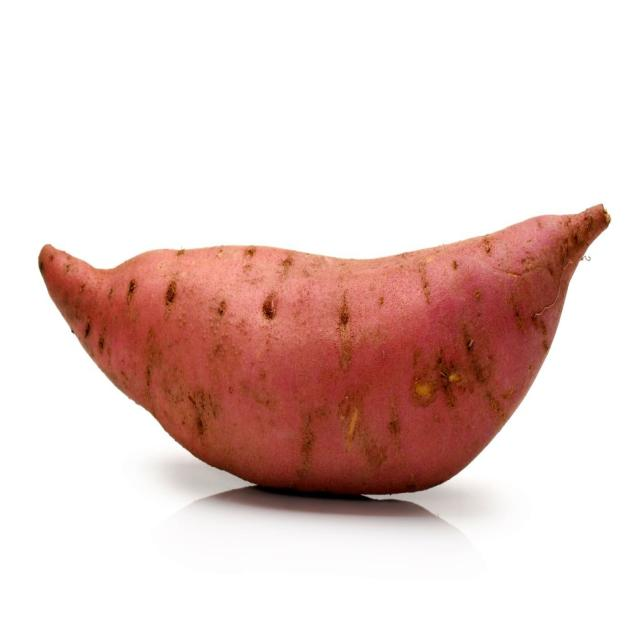sweet potato: (39, 204, 610, 494)
